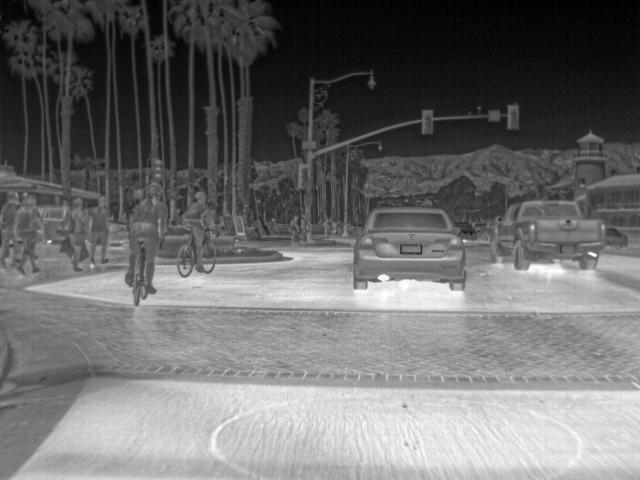car: (353, 205, 463, 291), (493, 197, 602, 270), (38, 206, 65, 242), (455, 221, 479, 242)
person: (123, 193, 164, 295), (11, 194, 44, 273), (182, 193, 213, 261), (67, 195, 91, 270), (89, 194, 111, 260), (288, 214, 302, 242), (297, 219, 309, 244)
